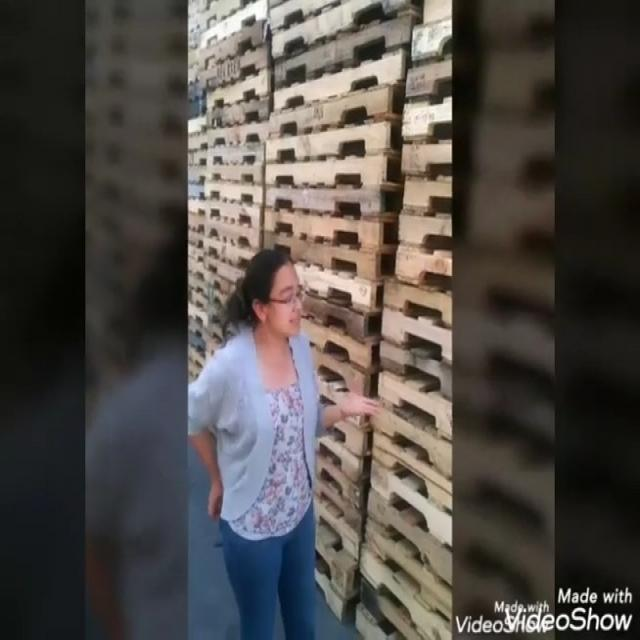Palette: (357, 0, 453, 640), (263, 0, 421, 240), (181, 0, 265, 373), (300, 302, 382, 640)
